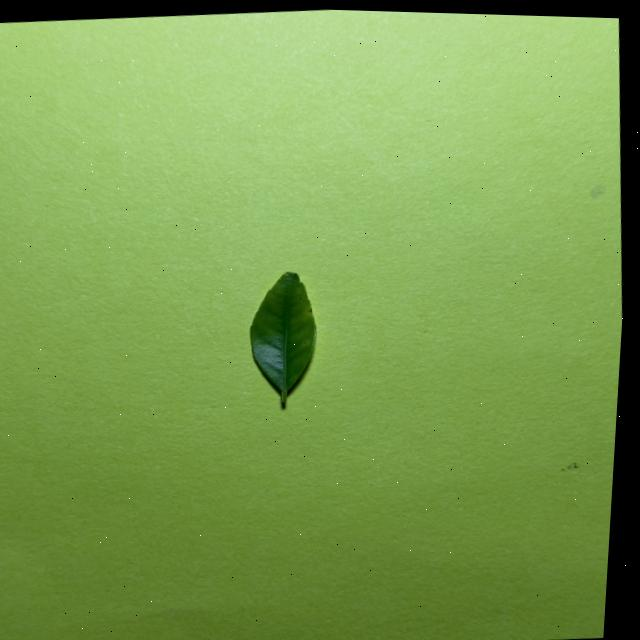greening: (249, 270, 315, 405)
